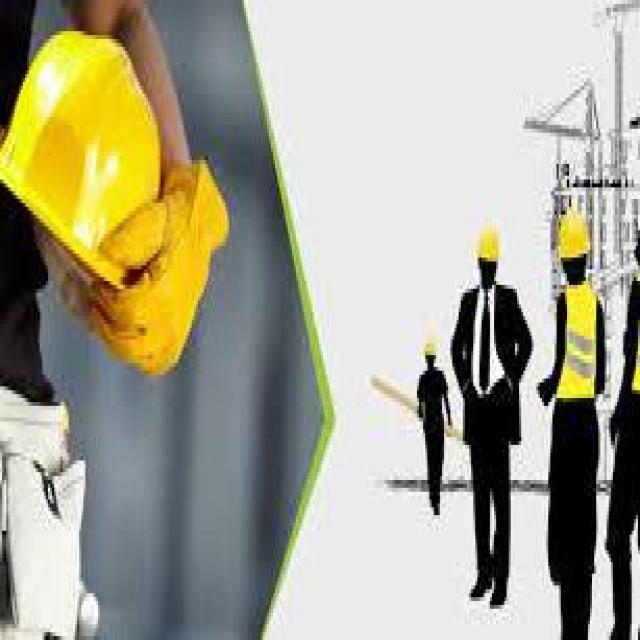Reflective-Jacket: (454, 281, 530, 437), (546, 273, 609, 418), (619, 250, 640, 429)
Safety-Helmet: (0, 23, 196, 300), (548, 199, 596, 277), (469, 207, 509, 281)
